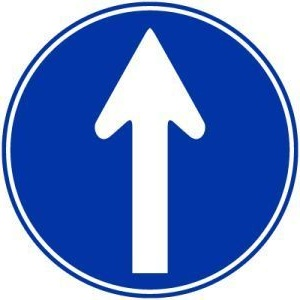Direction_sign: (2, 3, 290, 300)
